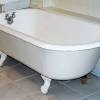bathub: (1, 6, 98, 96)
